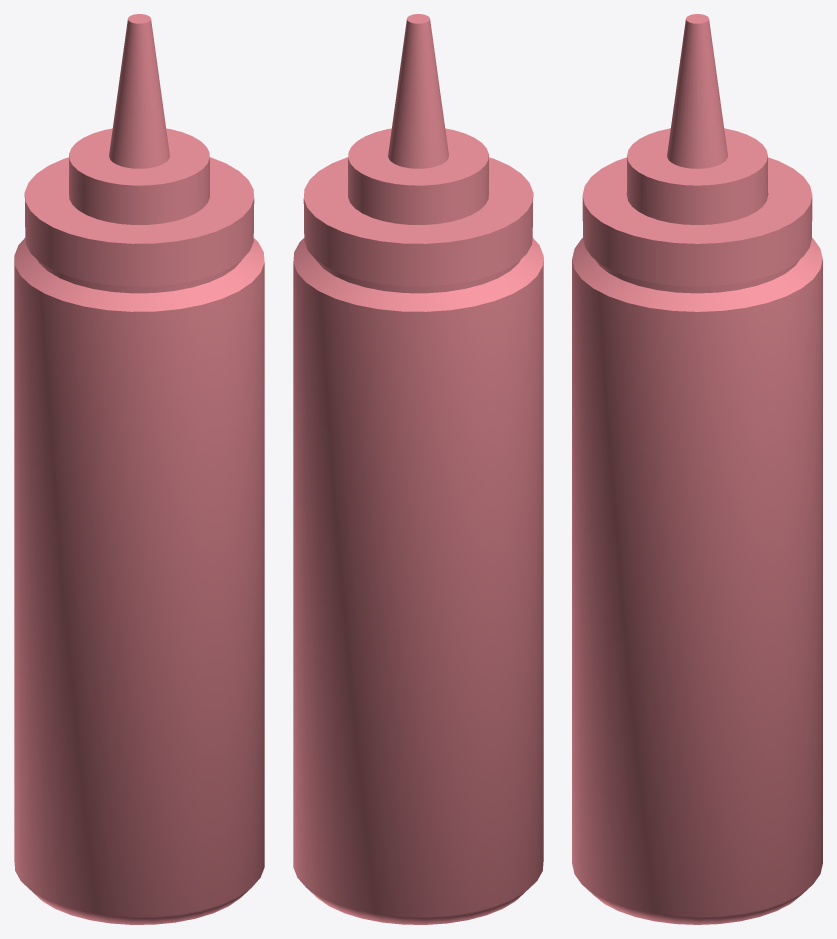
3 views of the same model, side by side, from view 1: azimuth 30°, elevation 25°; view 2: azimuth 150°, elevation 25°; view 3: azimuth 270°, elevation 25° (orthographic).
Visible parts, largest first — view 1: Cylinder__0; view 2: Cylinder__0; view 3: Cylinder__0.
Boxes of the visible parts, box(x1,y1,x2,y2) form: Cylinder__0: box(14, 14, 264, 924); Cylinder__0: box(293, 14, 543, 924); Cylinder__0: box(572, 14, 822, 924).
Size of the model in its own units: 0.2646 by 1 by 0.2646.
